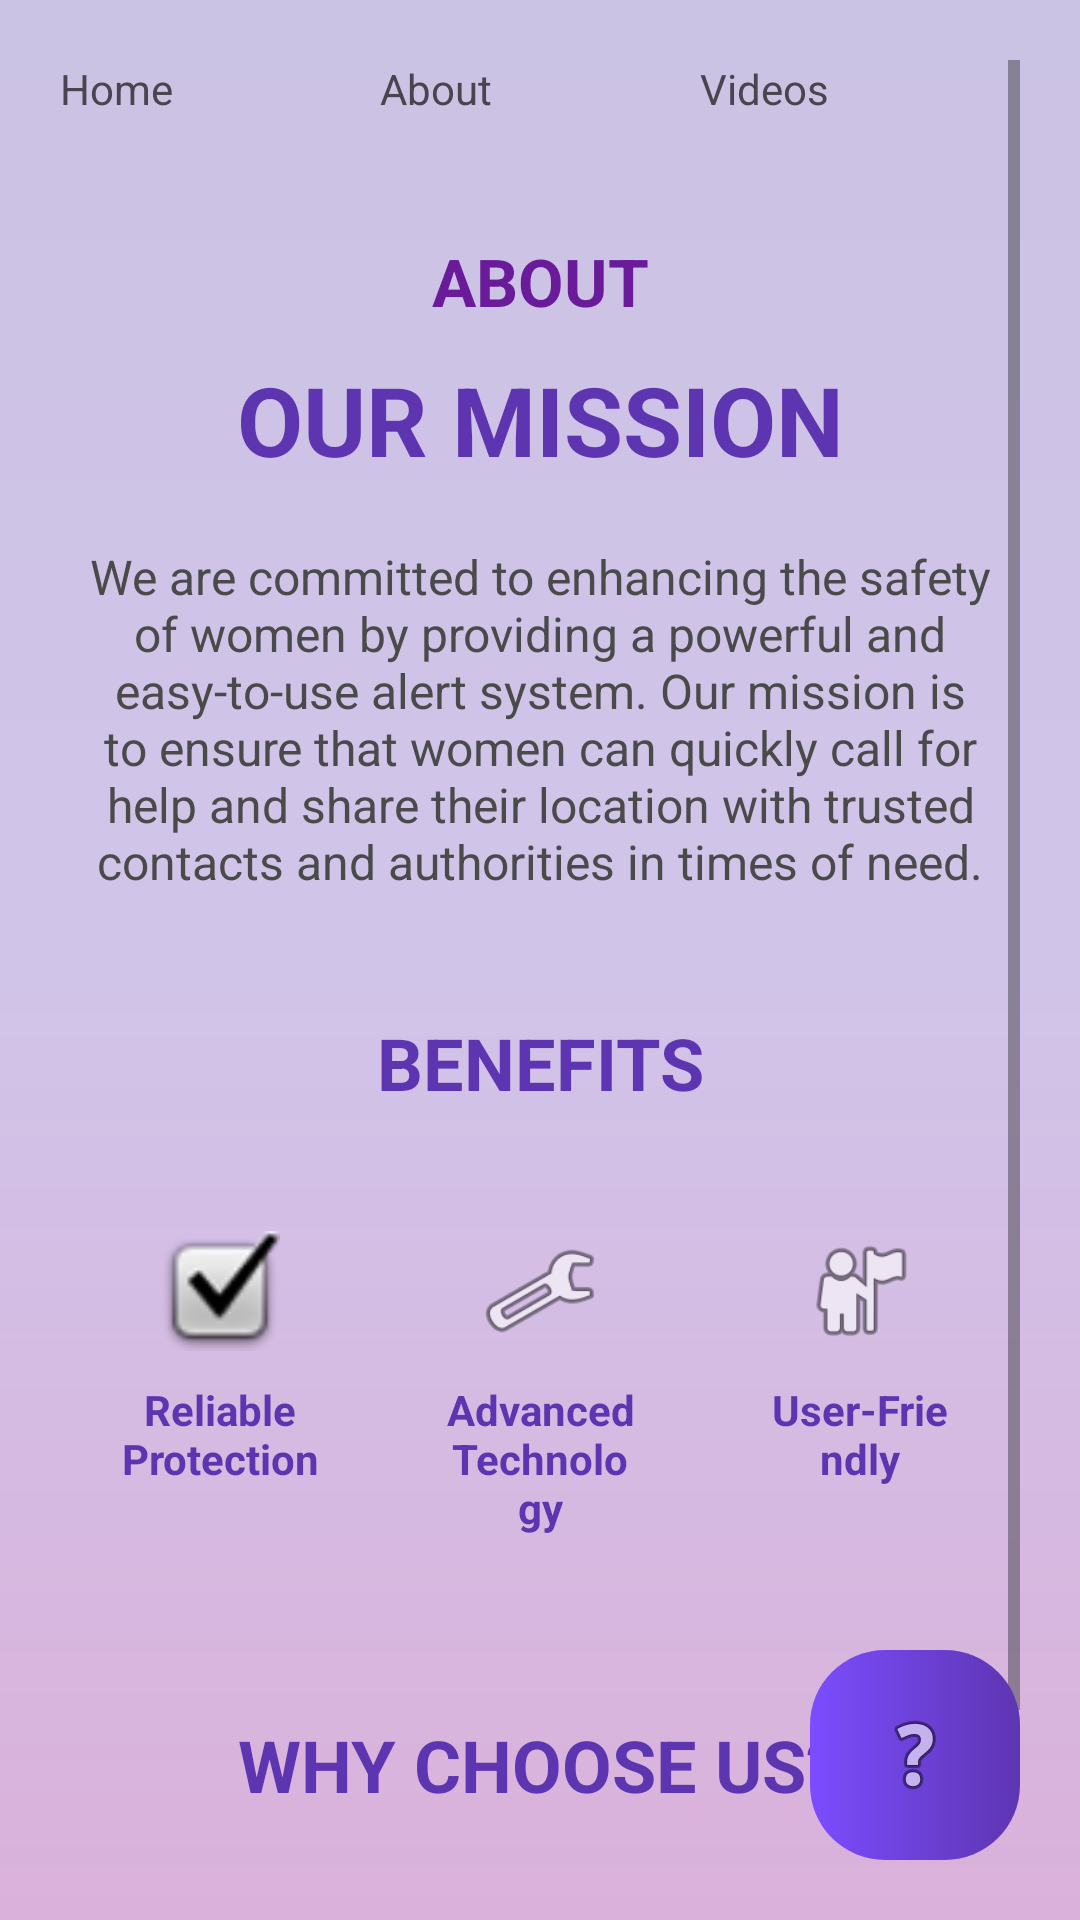

Screen size 1080w x 1920h. Icon name, then its box in pixels as box(x1, y1, x2, y2):
help: box(810, 1650, 1020, 1860)
manage: box(486, 1250, 594, 1332)
